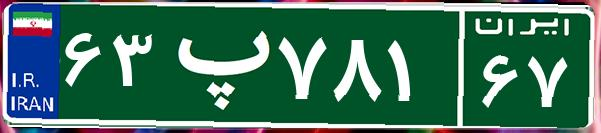1: (385, 28, 445, 110)
3: (110, 28, 158, 105)
6: (57, 26, 110, 107), (475, 38, 525, 113)
7: (273, 28, 330, 110), (525, 38, 570, 115)
8: (330, 28, 385, 110)
پ: (158, 15, 273, 115)
